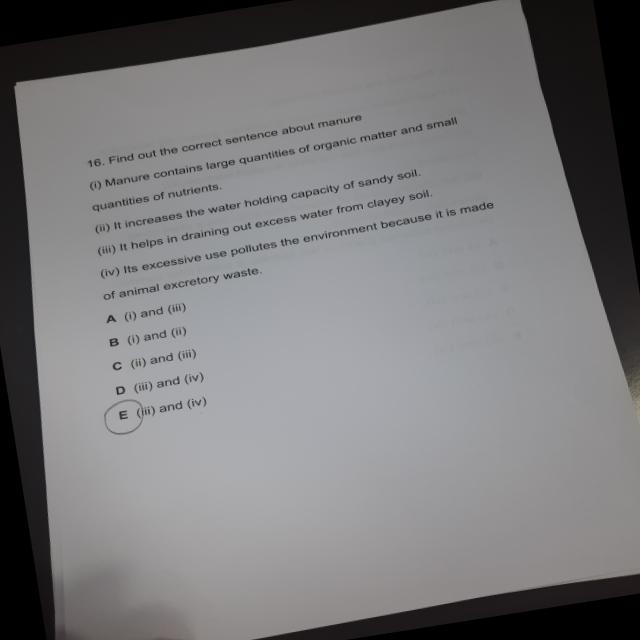E: (95, 395, 151, 442)
